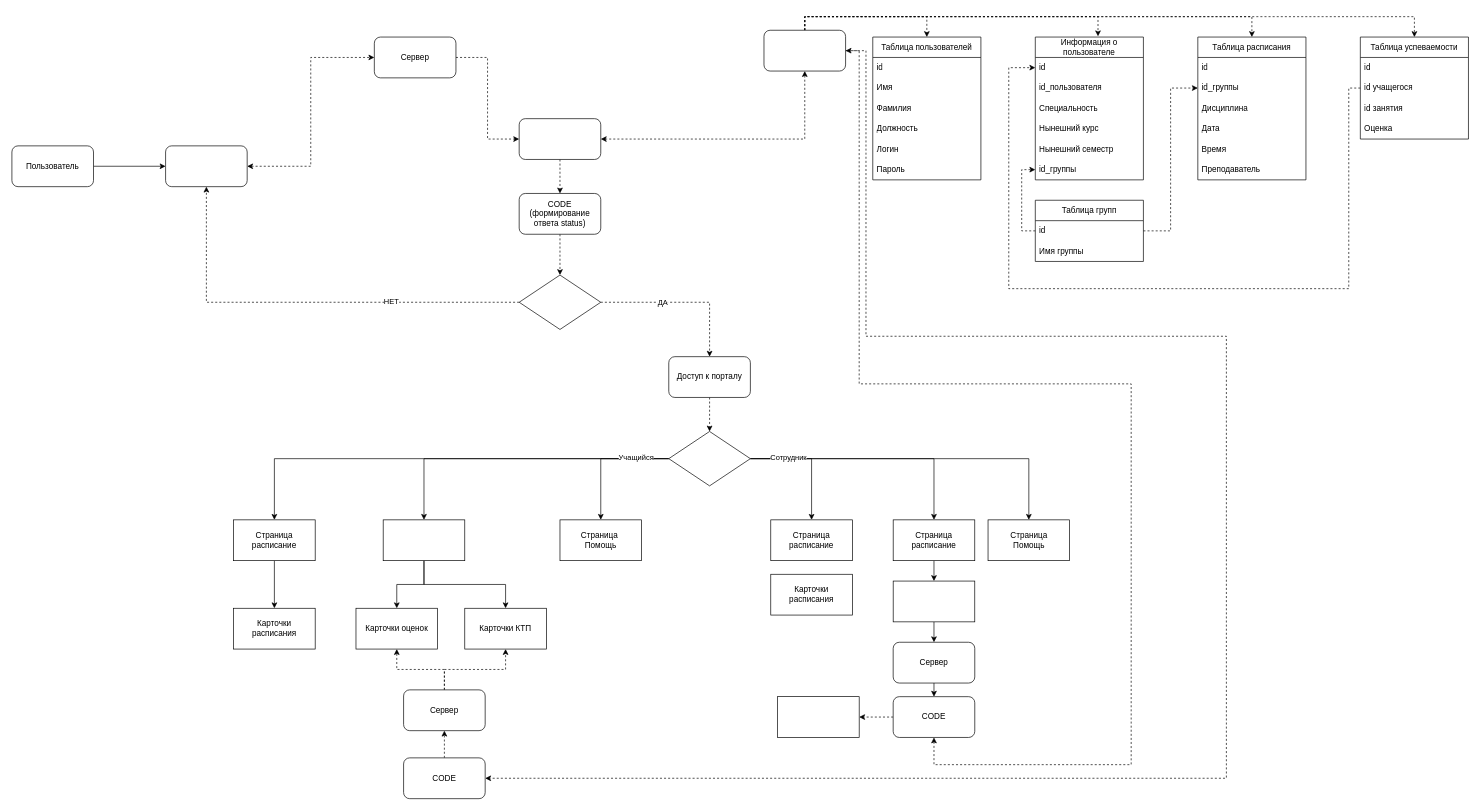
Image size: 1480x811. Some labels were removed from this diagram. Here are the shapes that lost their labels. From the top down, the centre of each, then its label:
pixel 804 50: База данных
pixel 559 138: CODE AUTH
pixel 206 166: Страница авторизации
pixel 559 301: Процесс авторизации
pixel 709 458: Доступ аккаунт
pixel 423 540: Страница успеваемости
pixel 934 601: Карточки групп
pixel 818 716: Успеваемость
